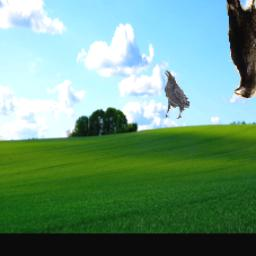Crow: (228, 0, 256, 98), (165, 70, 191, 119)
